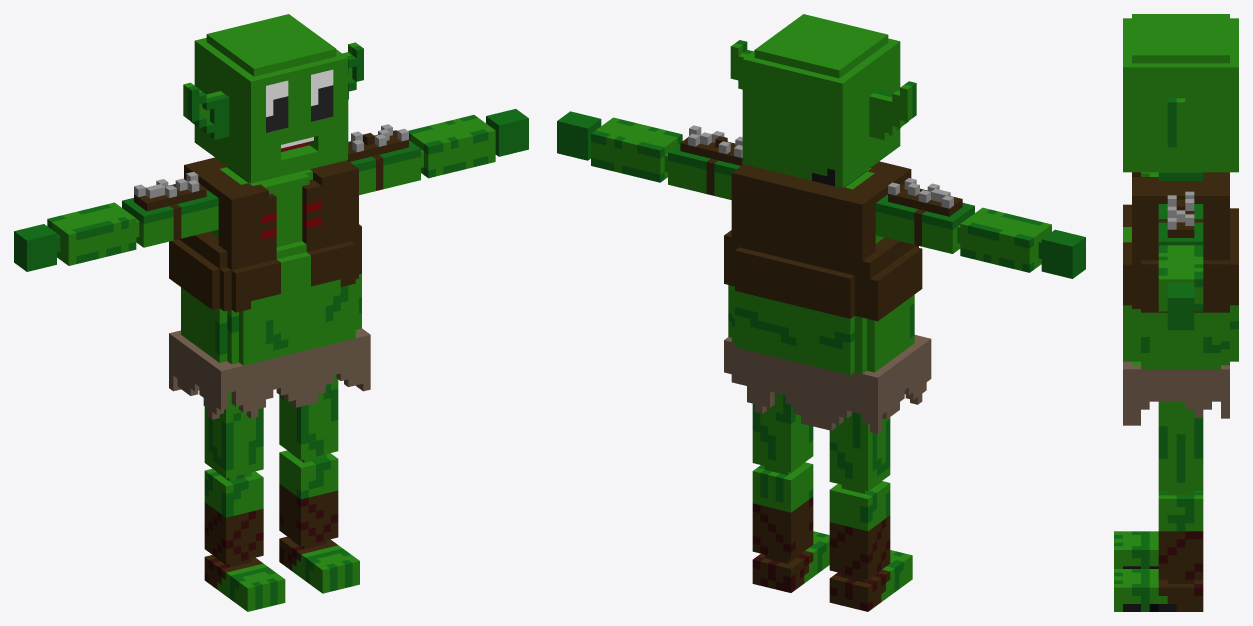
Rendered from Orc goblins.obj.
The picture shows the model from 3 angles, left to right: view 1: azimuth 30°, elevation 25°; view 2: azimuth 150°, elevation 25°; view 3: azimuth 270°, elevation 25°; orthographic projection. The views are drawn at different scales.
Bounding box in the file's own units: 6.7 × 6.8 × 1.4.
Materials: 1 (1 with a texture image).
